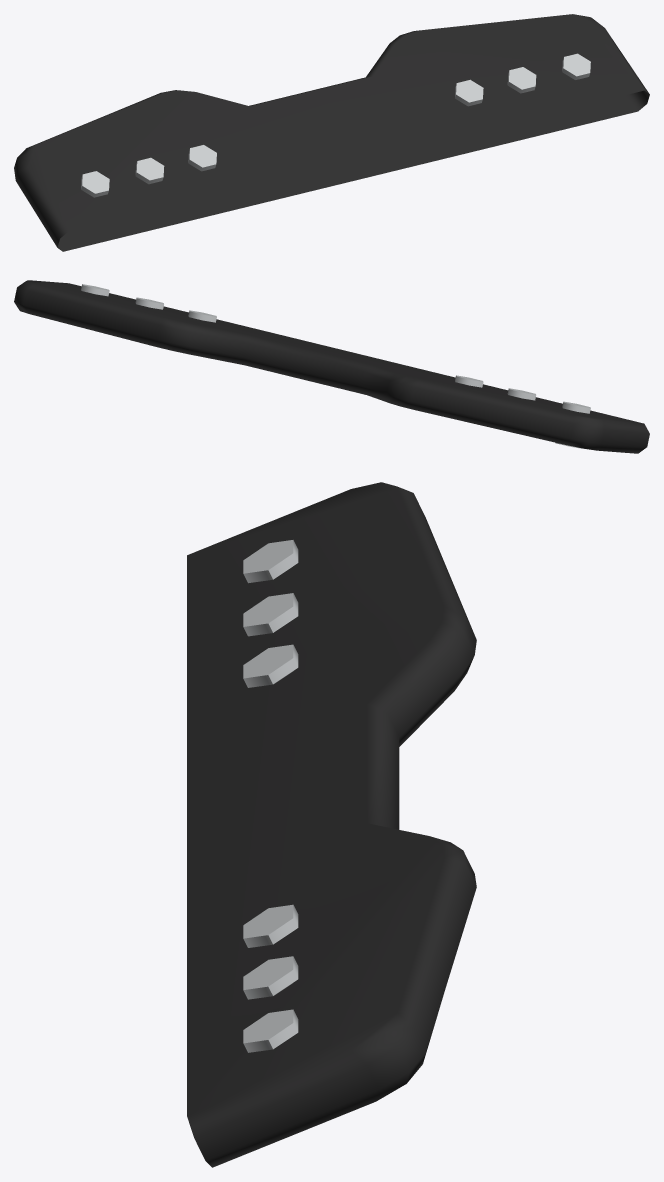
Rendered from Car_05_Spoiler.fbx.
3 renders of one model, top to bottom at view 1: azimuth 30°, elevation 25°; view 2: azimuth 150°, elevation 25°; view 3: azimuth 270°, elevation 25°, orthographic. The views are drawn at different scales.
Visible parts, largest first — view 1: Car_05_Spoiler; view 2: Car_05_Spoiler; view 3: Car_05_Spoiler.
Part boxes in pixels (x1,y1,x2,y2): Car_05_Spoiler: [14, 14, 649, 251]; Car_05_Spoiler: [14, 280, 649, 453]; Car_05_Spoiler: [187, 482, 476, 1167].
Bounding box in the file's own units: 148 × 31.43 × 18.56.
